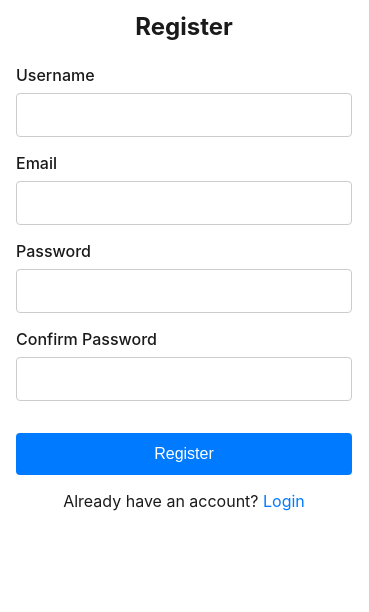
Test case: RegisterForm Component › should display validation error for empty username
Click the button "Register" at (184, 454), box [16,433,352,475]
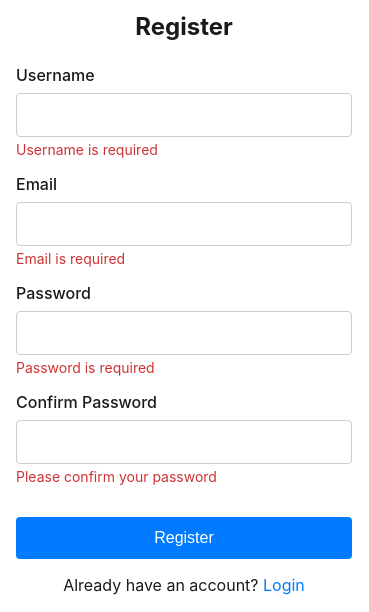
expect the text "Username is required" is shown: met, box [16,141,158,158]
